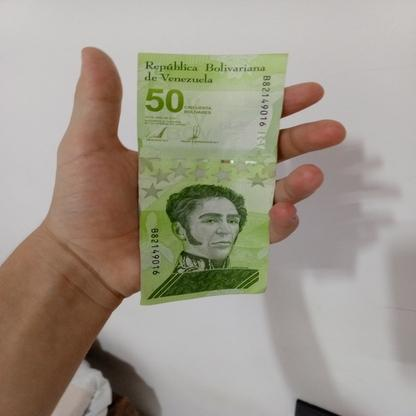fifty-front-vef: (136, 52, 288, 305)
